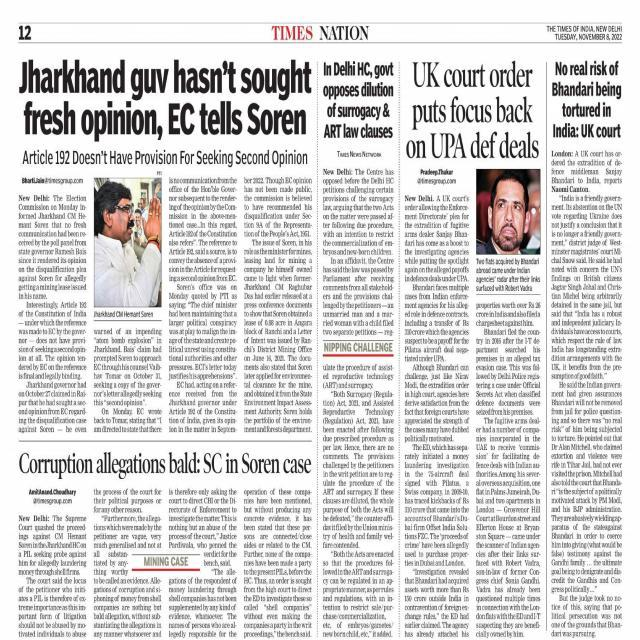Article: (14, 50, 315, 440), (401, 54, 545, 640), (14, 444, 316, 640), (548, 52, 627, 640), (320, 55, 398, 640)
Body: (550, 147, 622, 640), (404, 194, 469, 640), (475, 300, 541, 640), (322, 362, 394, 640), (168, 174, 238, 433), (243, 176, 313, 434), (17, 193, 87, 434), (322, 166, 394, 335), (243, 487, 313, 640), (17, 514, 88, 640), (92, 326, 162, 434), (168, 577, 238, 640), (93, 577, 162, 640), (92, 488, 162, 550), (168, 488, 238, 548), (92, 550, 130, 575), (203, 550, 238, 575)
Date: (554, 34, 622, 42)
Heading: (18, 56, 312, 142), (406, 58, 540, 159), (19, 450, 315, 479), (322, 61, 396, 140), (550, 58, 622, 138)
Highlights: (20, 148, 308, 168), (322, 341, 392, 354), (141, 556, 191, 568)
Image: (95, 178, 162, 308), (476, 168, 540, 255)
Name: (270, 24, 369, 42), (546, 24, 594, 32)
